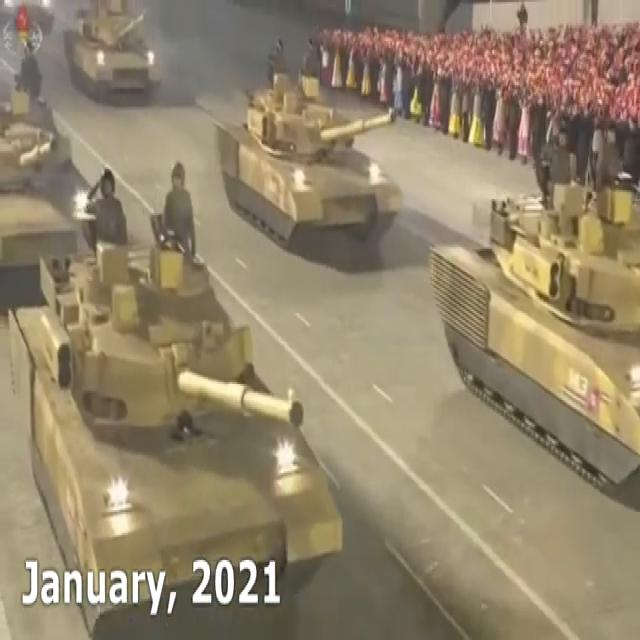north tank: (7, 239, 351, 640), (425, 146, 640, 497), (214, 52, 416, 270), (59, 3, 167, 112)
